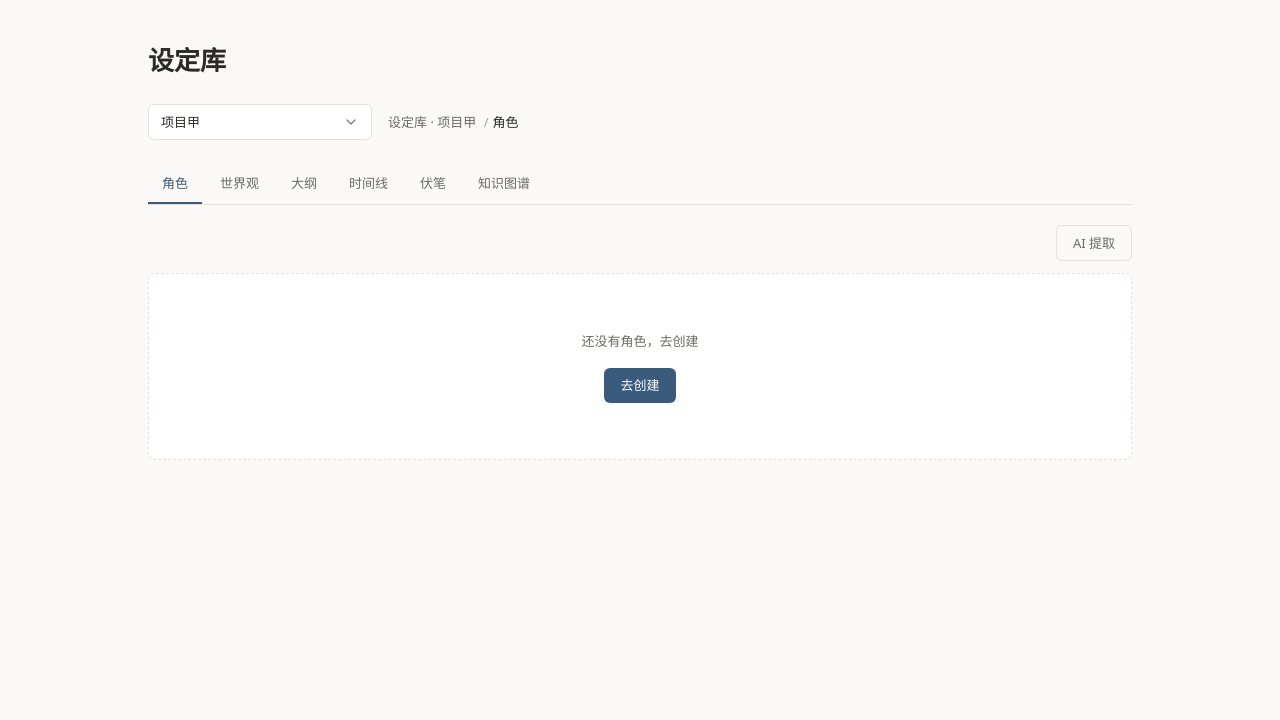
Test: 设定库页 — 世界观默认视图重设计（#568） › 入口：选中分类 chip → 「新建条目」启用；点击打开对话框且类别预填选中分类名
Click the tab "世界观" at (240, 184), box [206,164,273,204]
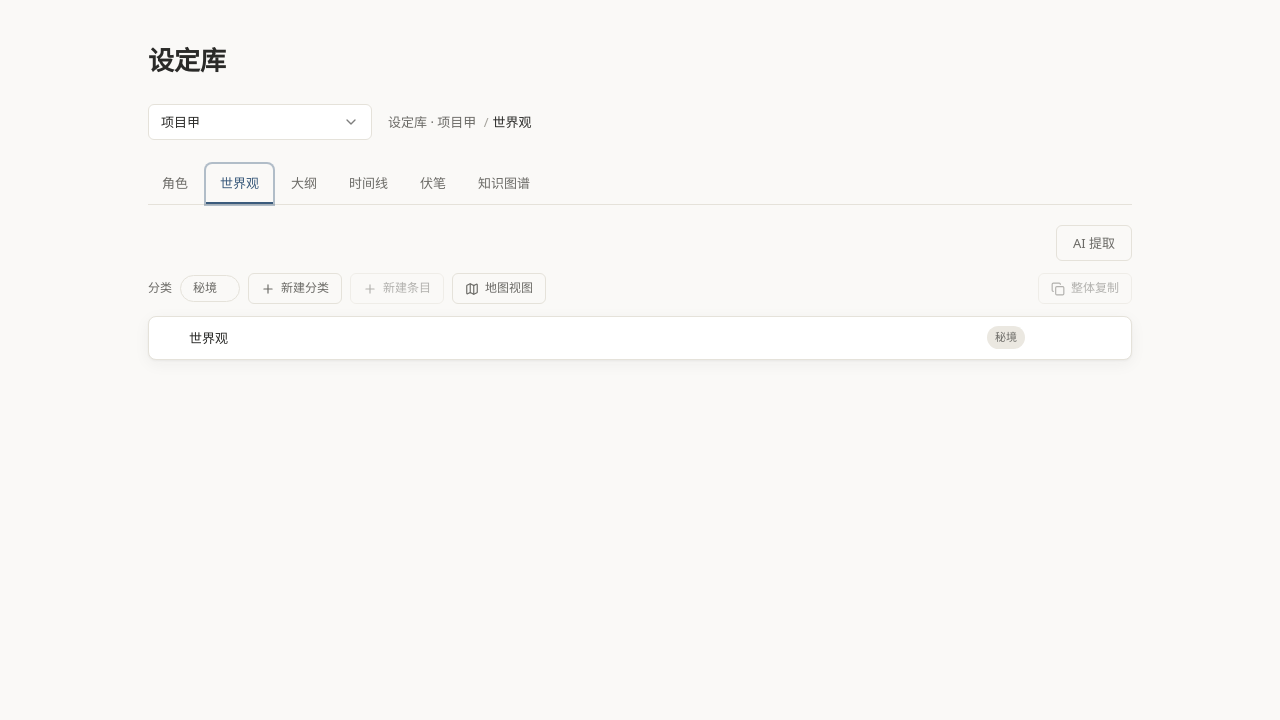
Check: the element with test id "library-list" is shown, box [148,316,1132,360]
点击「秘境」分类 chip → 选中态
Click the button with test id "world-cat-filter-秘境" at (205, 289), box [193,278,217,299]
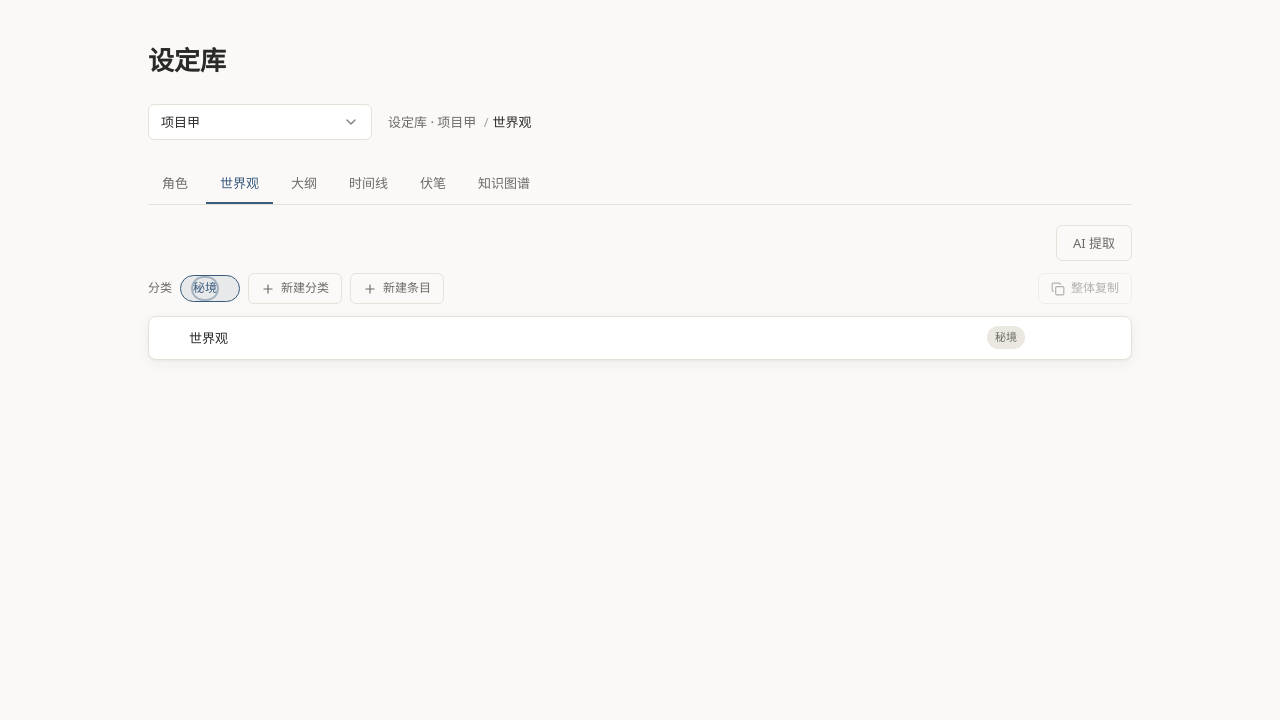
Check: the button with test id "world-cat-add" is shown, box [248,273,342,304]
Check: the button with test id "world-cat-add-entry" is enabled
Click the button with test id "world-cat-add-entry" at (397, 289), box [350,273,444,304]
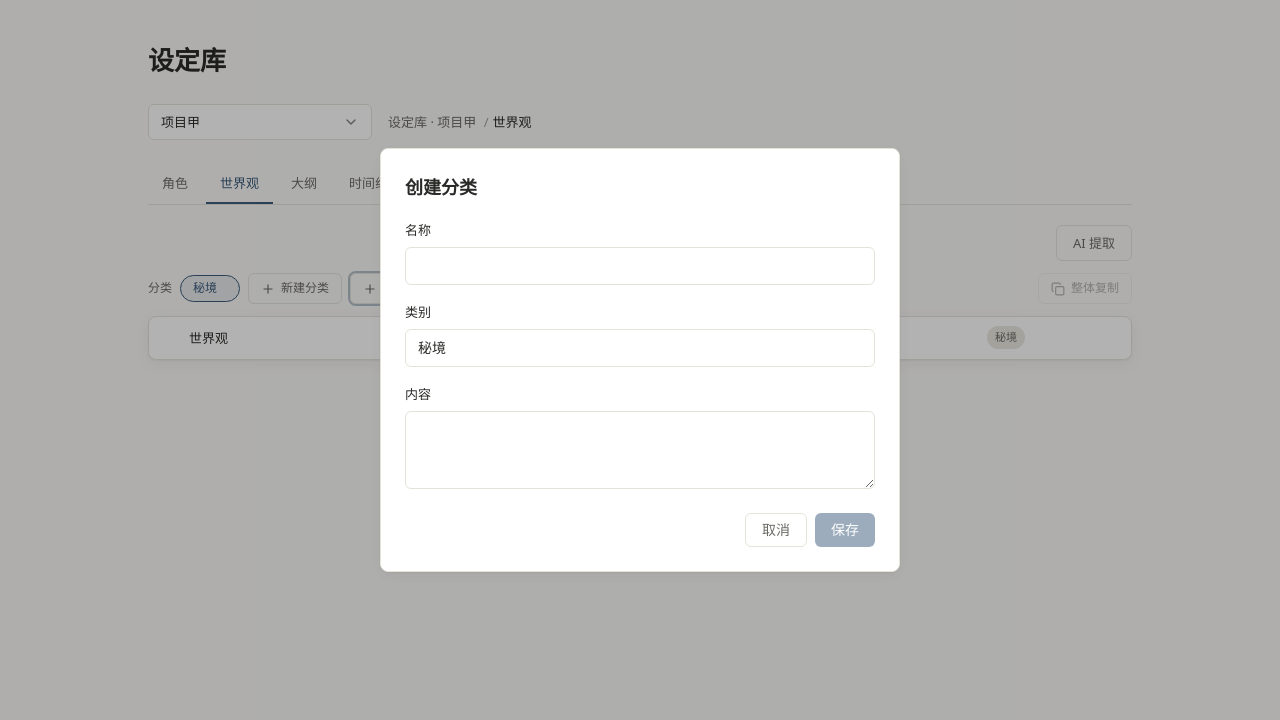
Check: the dialog with test id "library-create-dialog" is shown, box [380,148,900,572]
Check: the field labelled "类别" holds "秘境", box [405,329,875,367]
Check: the dialog with test id "library-create-dialog" shows "创建分类", box [405,178,477,198]
